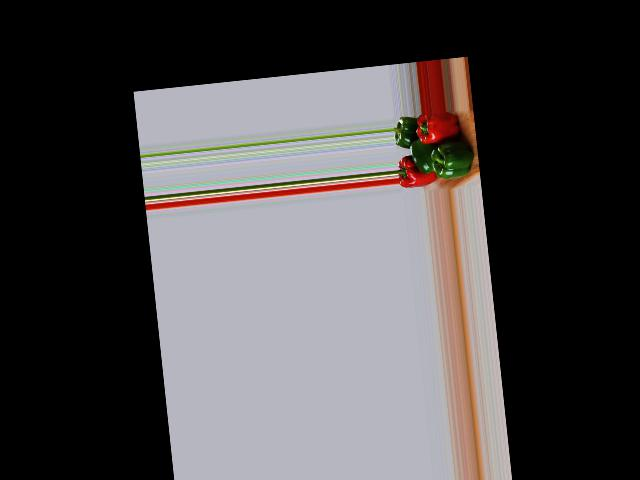bell_pepper: (416, 110, 465, 146)
